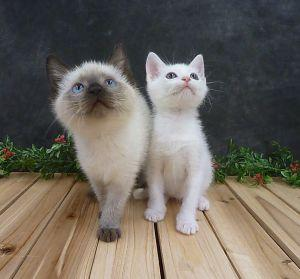siamese: (44, 36, 141, 137)
